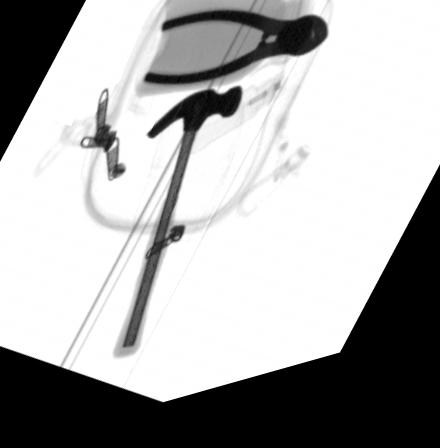Hammer: (109, 99, 243, 367)
Pliers: (140, 21, 328, 95)
